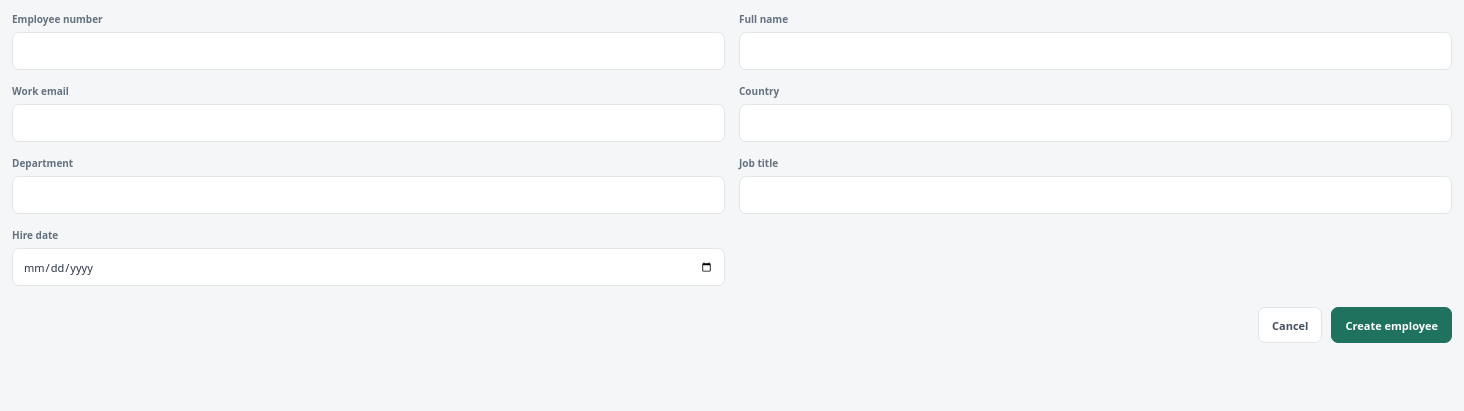
Test case: employee and salary forms › sends valid employee fields and displays a duplicate-record API error
In the field labelled "Employee number": (368,51) [12, 32, 725, 70], type "AC-0010"
In the field labelled "Full name": (1096,51) [739, 32, 1452, 70], type "Alex Morgan"
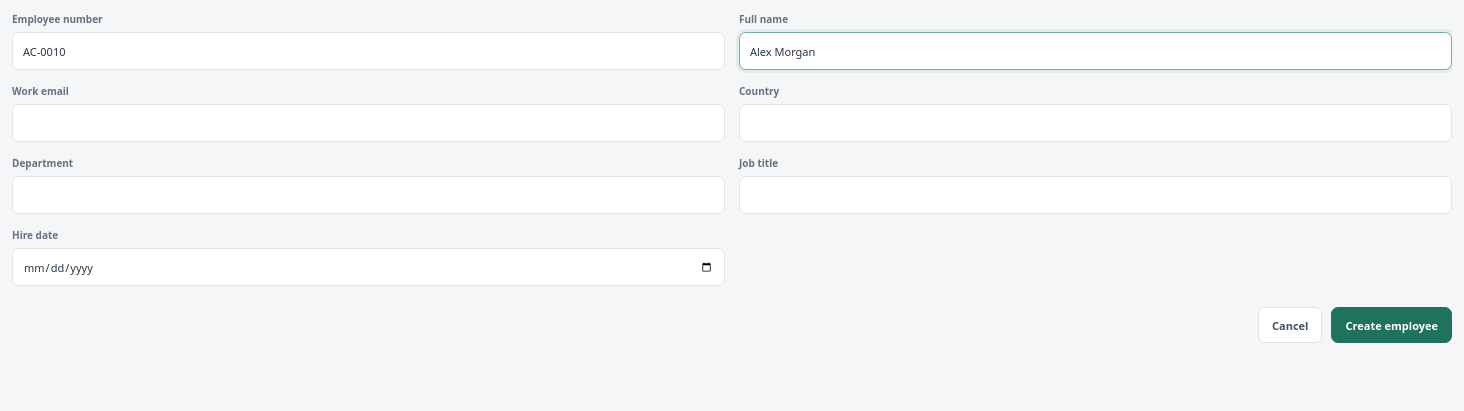
In the field labelled "Work email": (368,123) [12, 104, 725, 142], type "alex@example.test"
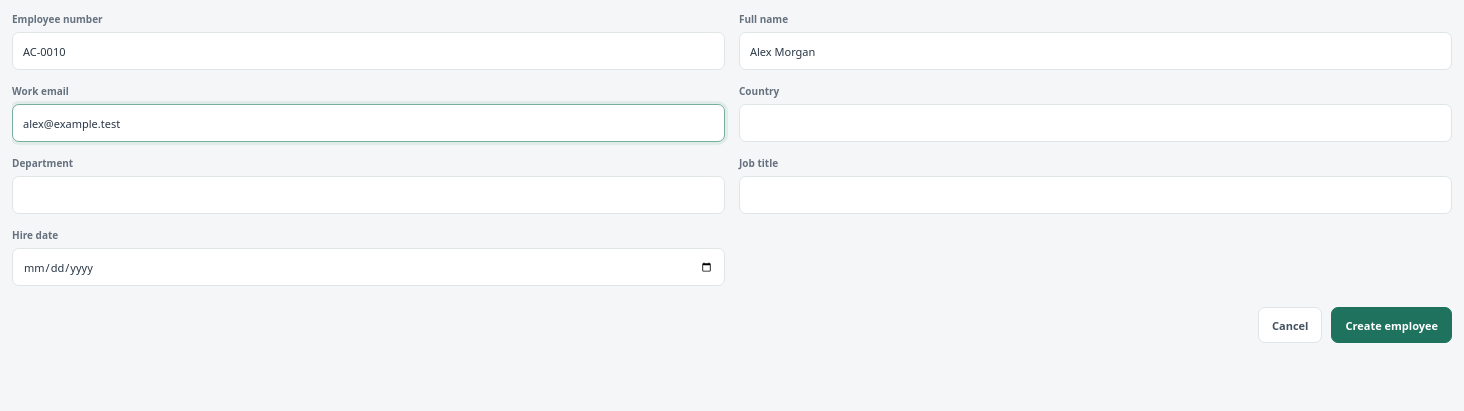
In the field labelled "Country": (1096,123) [739, 104, 1452, 142], type "India"
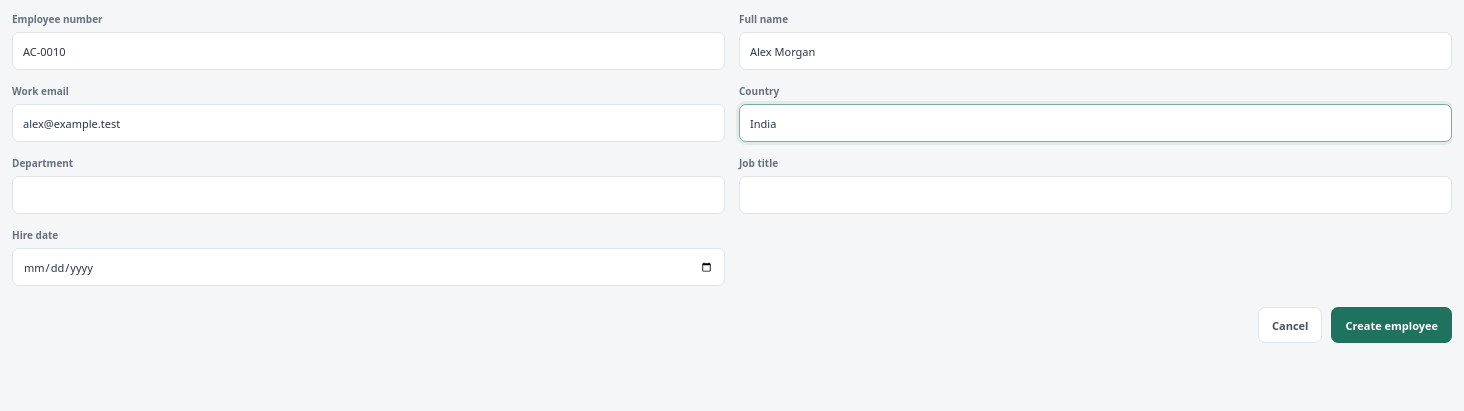
In the field labelled "Department": (368,195) [12, 176, 725, 214], type "Engineering"
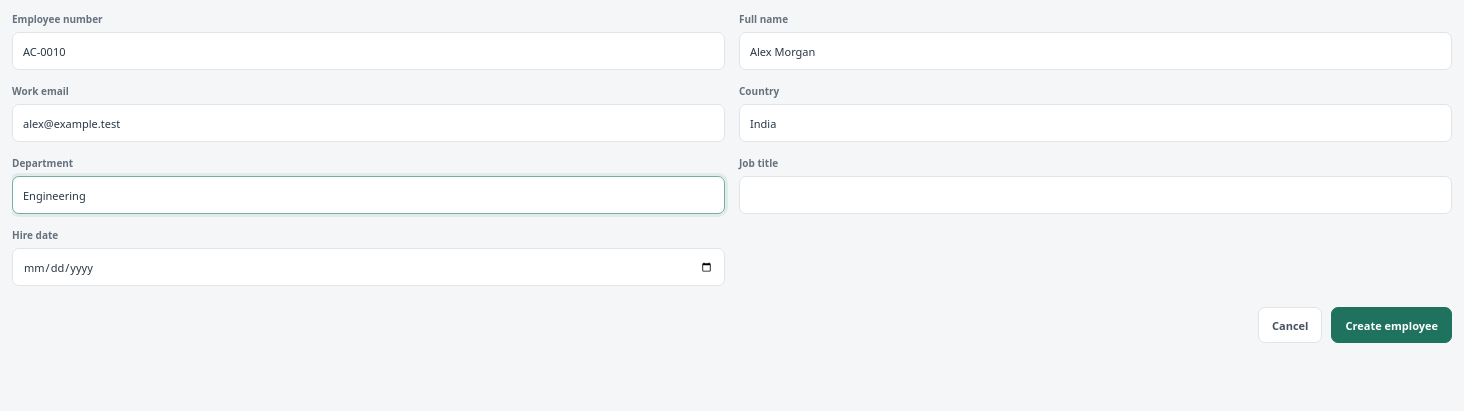
In the field labelled "Job title": (1096,195) [739, 176, 1452, 214], type "Analyst"
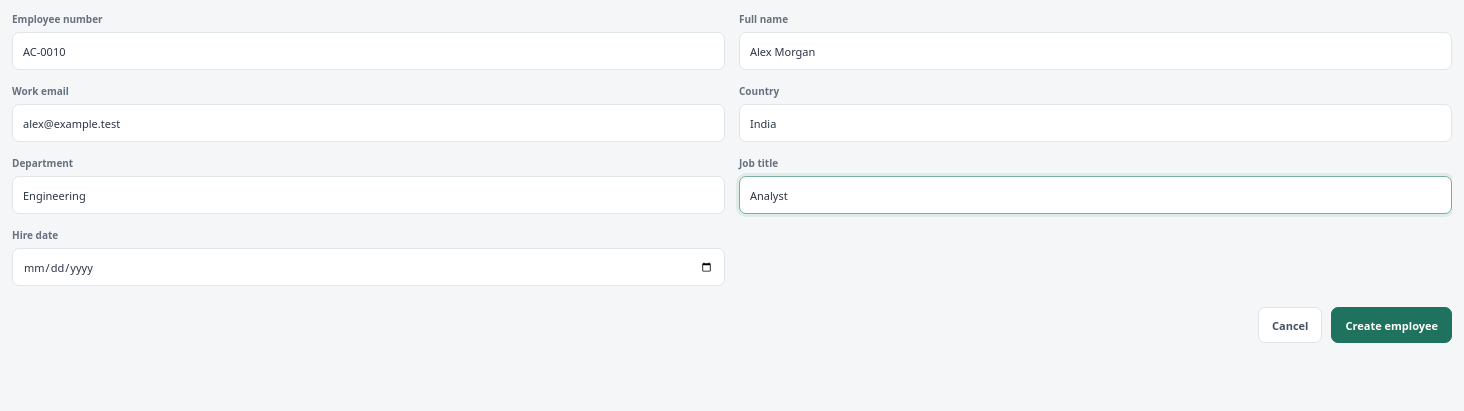
In the date field labelled "Hire date": (368,267) [12, 248, 725, 286], type "2024-03-15"
Click the button "Create employee": (1392,325) [1332, 307, 1452, 343]
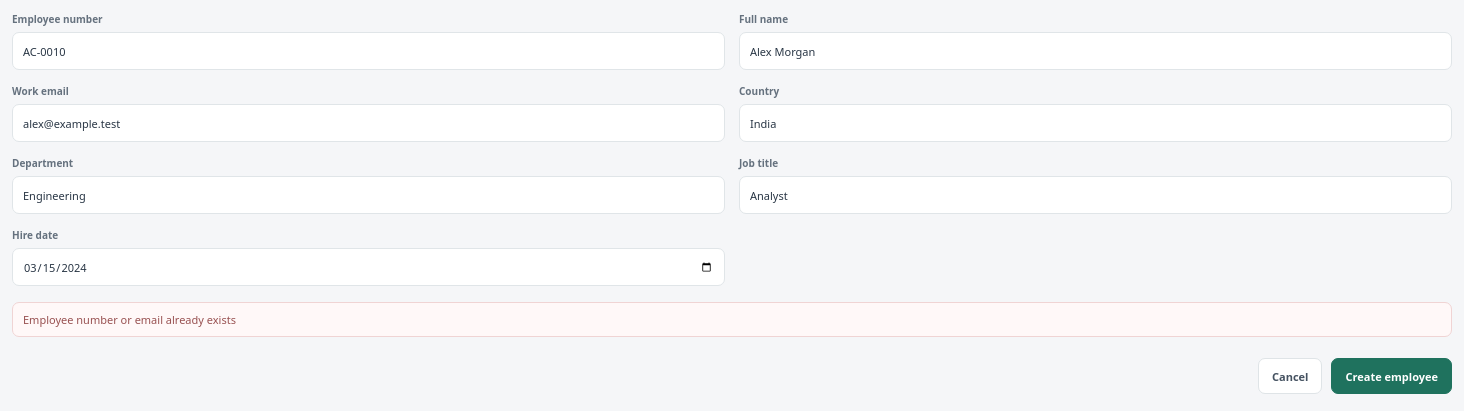
Expected: the text "Employee number or email already exists" is shown, [12, 302, 1452, 337]
